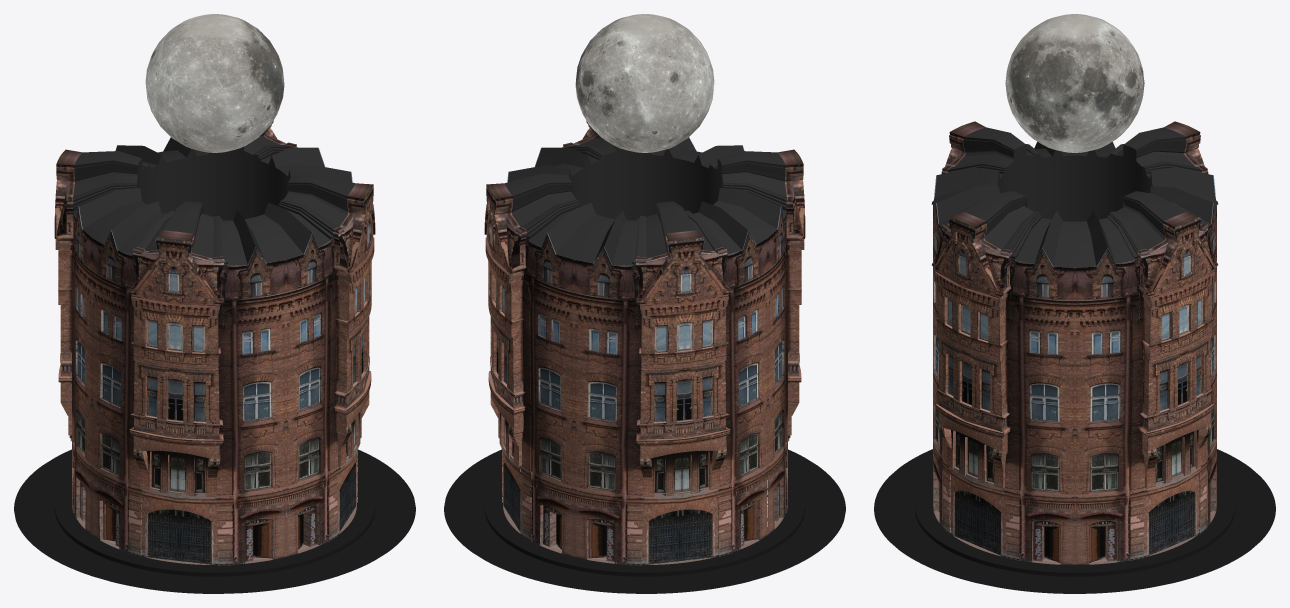
File: moon_tower.glb
The picture shows the model from 3 angles, left to right: view 1: azimuth 30°, elevation 25°; view 2: azimuth 150°, elevation 25°; view 3: azimuth 270°, elevation 25°; orthographic projection.
Visible parts, largest first — view 1: HighRes.002_0, Sphere_1; view 2: HighRes.002_0, Sphere_1; view 3: HighRes.002_0, Sphere_1.
Part boxes in pixels (x1,y1,x2,y2): HighRes.002_0: (14, 120, 415, 593); Sphere_1: (145, 14, 284, 152); HighRes.002_0: (444, 120, 845, 593); Sphere_1: (575, 14, 714, 152); HighRes.002_0: (874, 121, 1275, 593); Sphere_1: (1005, 14, 1144, 152).
Bounding box in the file's own units: 7.29 × 9.77 × 7.29.
Materials: 4 (2 with a texture image).
